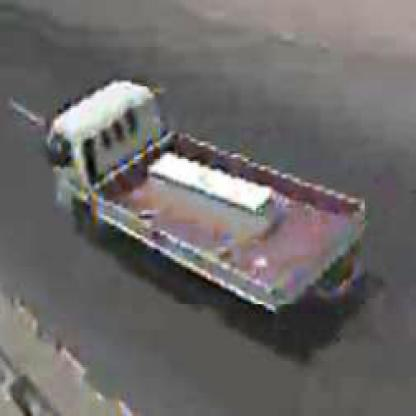truck: (49, 74, 367, 307)
